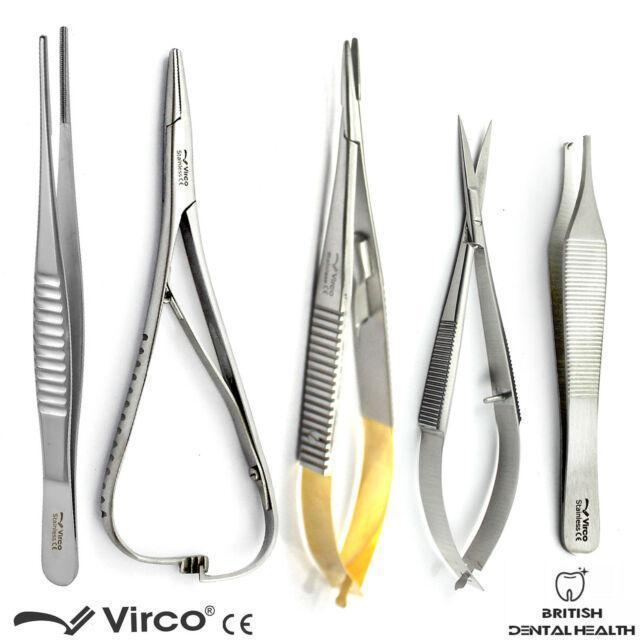Castroviejo: (95, 45, 280, 587), (292, 33, 397, 610)
Forceps: (29, 22, 88, 589), (543, 129, 614, 558)
Potts: (412, 109, 525, 594)
